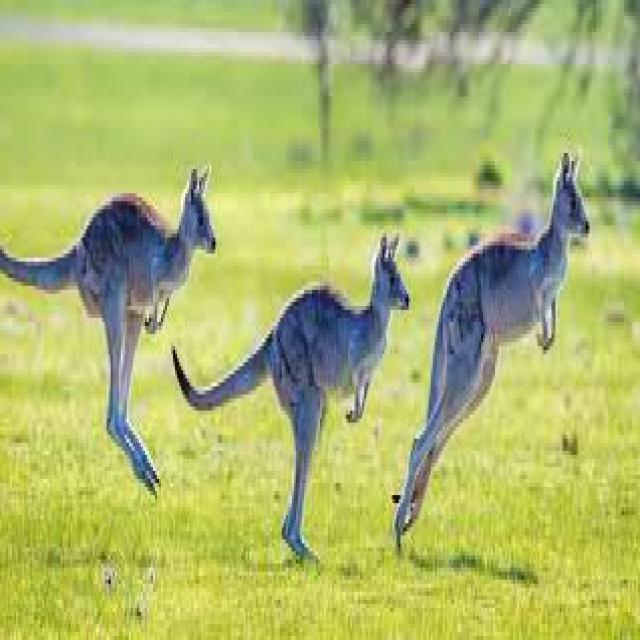kangaroo: (394, 153, 590, 543), (175, 233, 411, 555), (2, 169, 215, 491)
